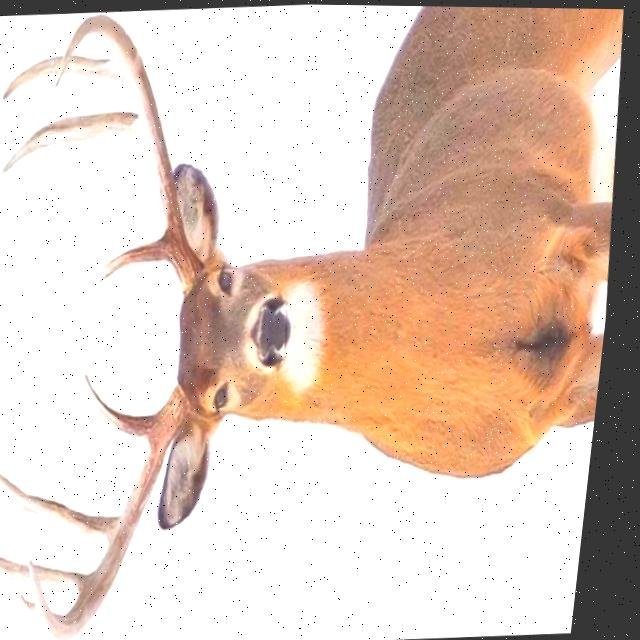L-F: (54, 14, 209, 292)
L-G1: (101, 236, 177, 283)
L-G2: (4, 111, 145, 177)
R-F: (40, 395, 197, 640)
R-G1: (91, 371, 165, 440)
R-G2: (0, 464, 132, 539)
